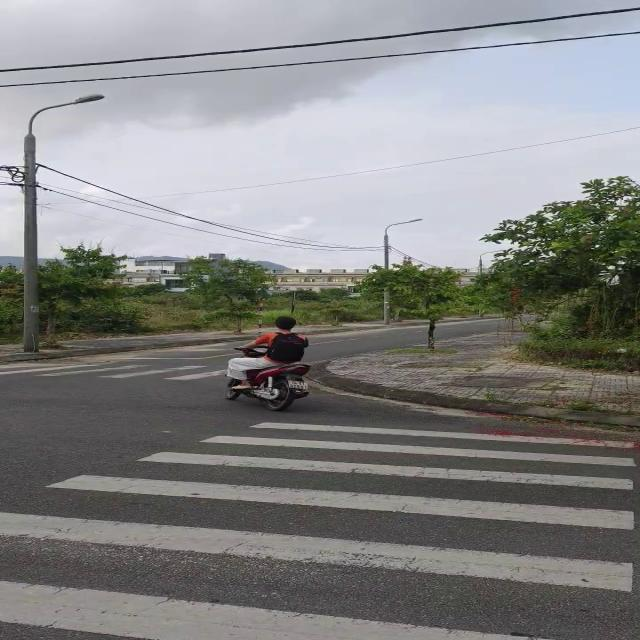no_helmet: (270, 310, 301, 332)
